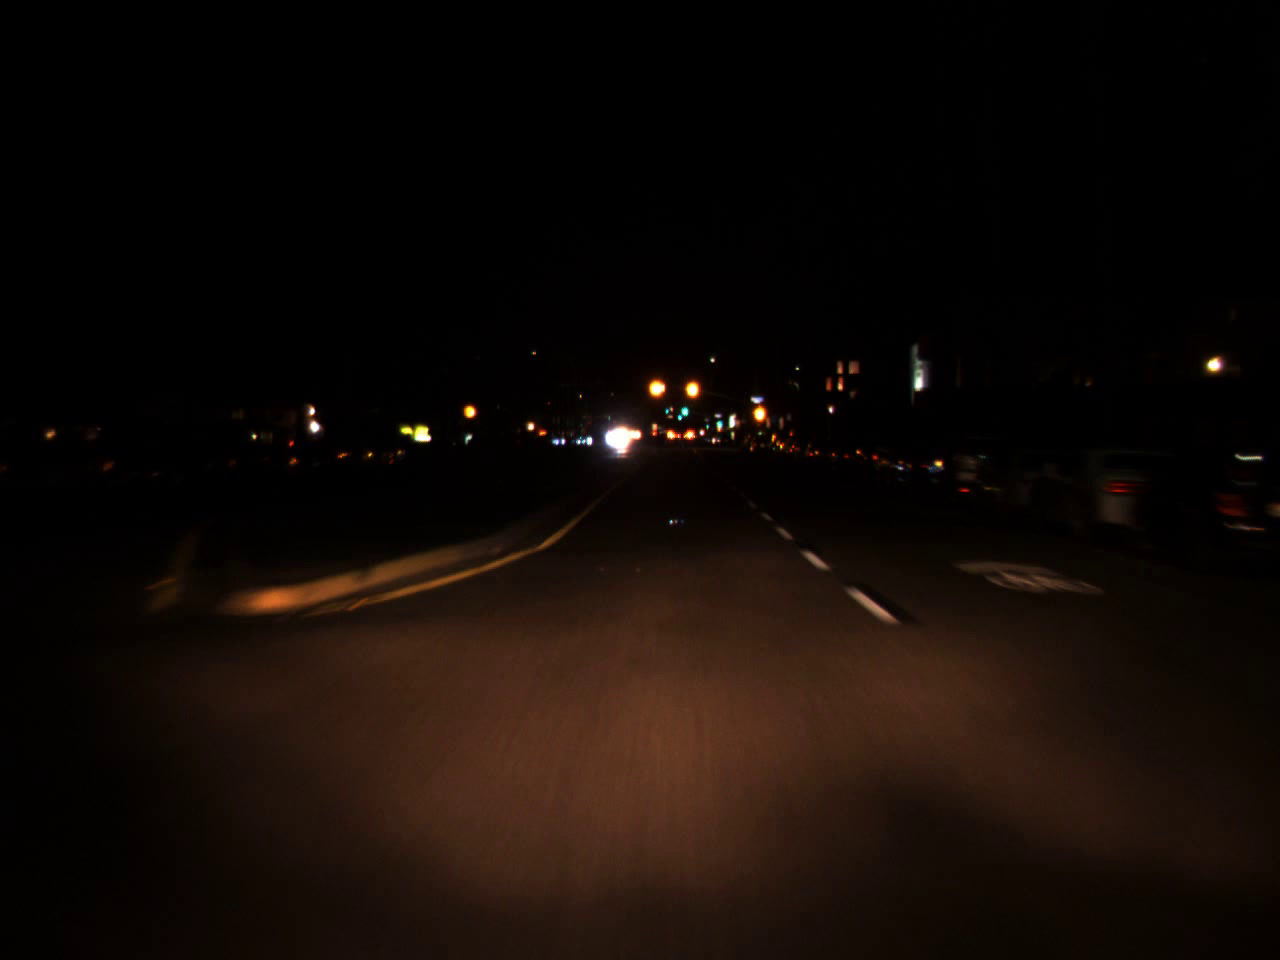go: (679, 399, 688, 417), (716, 416, 723, 428)
warning: (682, 369, 701, 409), (751, 393, 769, 433), (646, 372, 670, 402), (461, 397, 477, 424)
